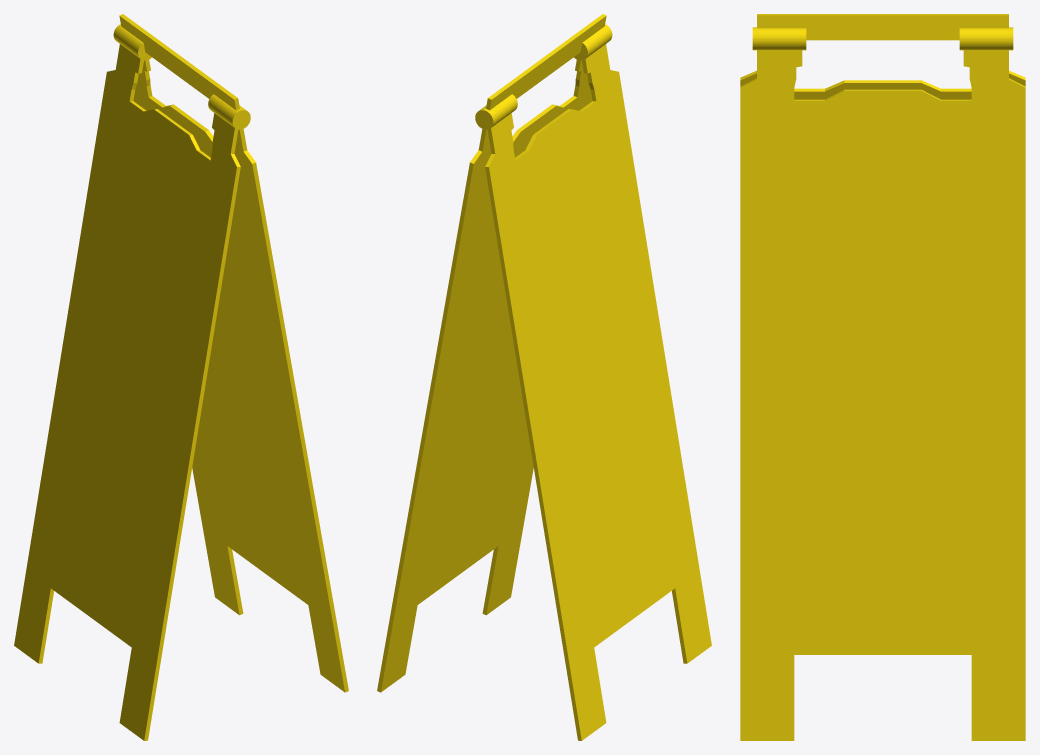
Rendered from WetFloorSign.fbx.
3 renders of one model, left to right at view 1: azimuth 30°, elevation 25°; view 2: azimuth 150°, elevation 25°; view 3: azimuth 270°, elevation 25°, orthographic. The views are drawn at different scales.
Visible parts, largest first — view 1: Cube.002, Cube.001; view 2: Cube.002, Cube.001; view 3: Cube.001, Cube.002.
Part boxes in pixels (box(x1,y1,x2,y2)): Cube.002: box(14, 44, 240, 740); Cube.001: box(113, 14, 348, 692); Cube.002: box(485, 44, 711, 740); Cube.001: box(377, 14, 612, 692); Cube.001: box(740, 14, 1025, 740); Cube.002: box(740, 70, 1025, 99).
Size of the model in its own units: 185 by 529 by 204.
